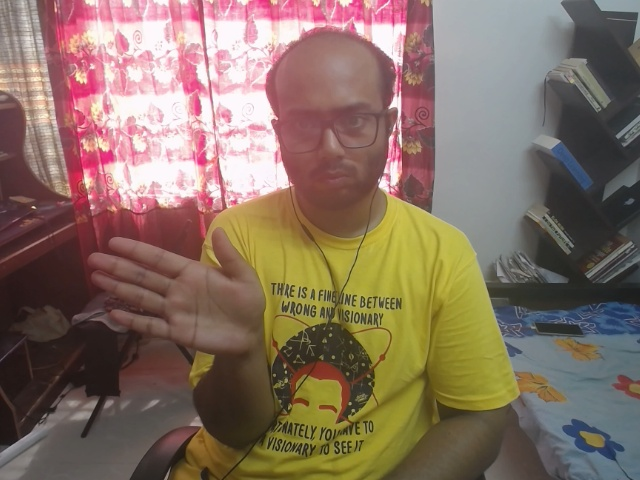south: (79, 200, 290, 398)
